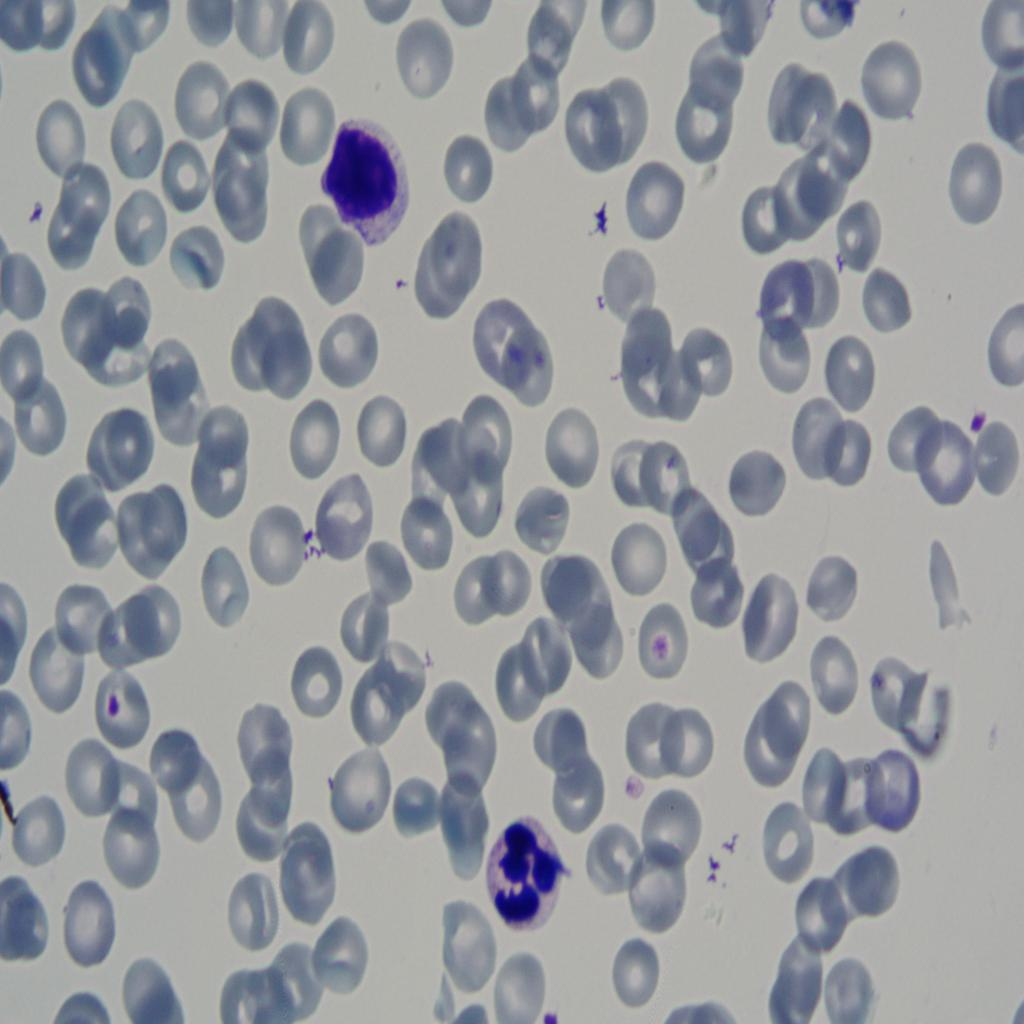Myeoblast: (321, 106, 411, 254)
Neutrofil: (490, 799, 569, 937)
Platelet: (963, 393, 999, 448), (107, 684, 134, 726)
